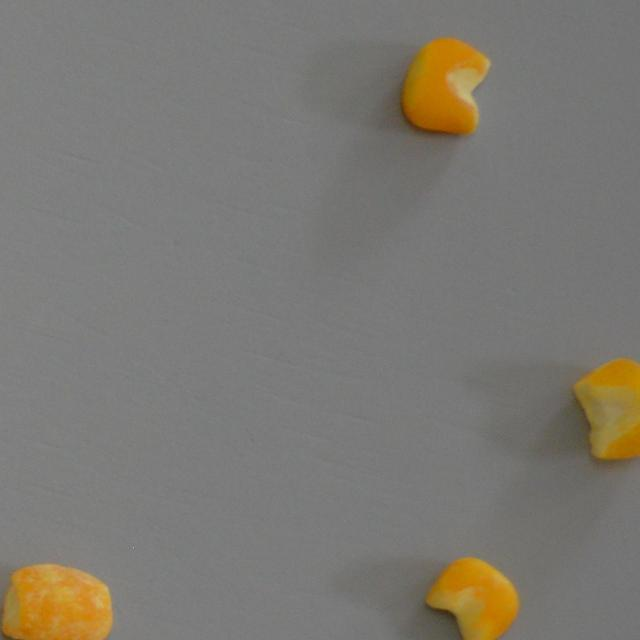no_canjicado: (400, 36, 490, 136), (425, 558, 520, 640), (574, 355, 640, 458)
pelicula: (0, 562, 112, 640)
